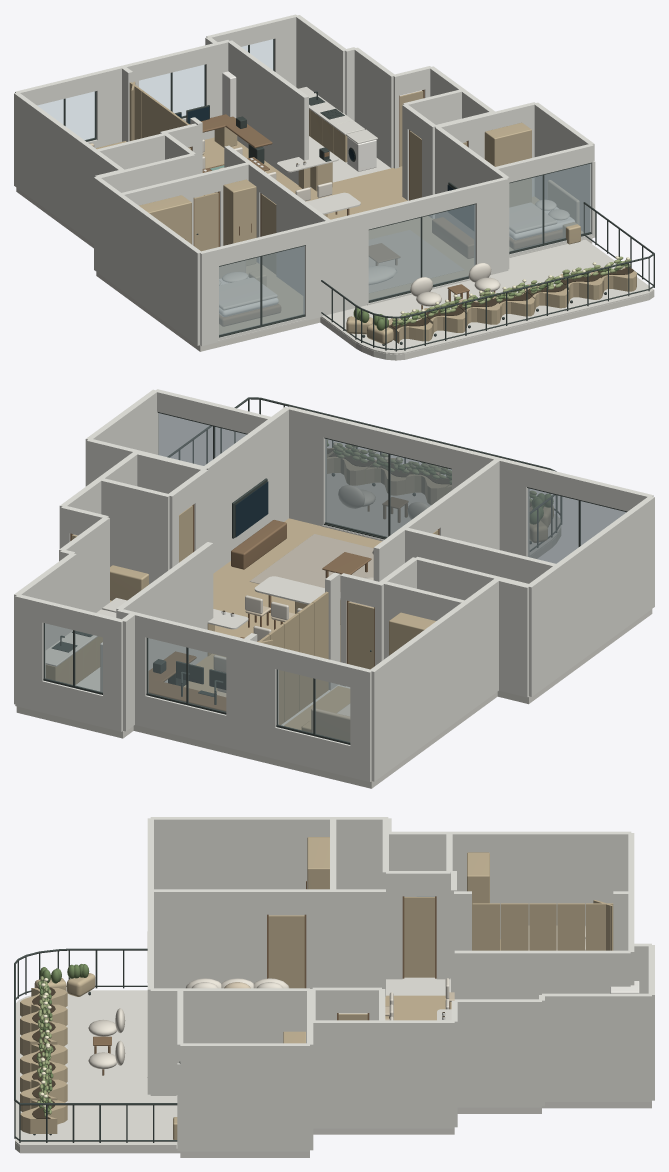
File: home-21101.glb
3 views of the same model, one above another, from view 1: azimuth 30°, elevation 25°; view 2: azimuth 150°, elevation 25°; view 3: azimuth 270°, elevation 25° (orthographic). The views are drawn at different scales.
Visible parts, largest first — view 1: Wall_008, Wall_006, Floor_TerraceFloor, LivingTerrace_glass, Wall_019, MasterSouth_glass, GuestSESouth_glass, Floor_Living, Foundation, Wall_042, Wall_016, Wall_018 (+65 smaller); view 2: Wall_006, Wall_008, LivingTerrace_glass, Wall_038, Wall_004, Wall_034, Wall_019, Floor_Living, Foundation, MasterSouth_glass, StudyNorth_glass, Wall_033 (+62 smaller); view 3: Wall_013, Wall_008, Wall_011, Wall_006, Floor_TerraceFloor, Wall_018, Wall_033, Wall_038, Wall_016, Wall_019, Foundation, Wall_029 (+30 smaller).
Boxes of the visible parts, left/top/right/bottom form: Wall_008: left=94, top=176, right=201, bottom=345; Wall_006: left=14, top=93, right=124, bottom=243; Floor_TerraceFloor: left=321, top=239, right=654, bottom=354; LivingTerrace_glass: left=368, top=204, right=475, bottom=300; Wall_019: left=227, top=40, right=308, bottom=184; MasterSouth_glass: left=219, top=246, right=304, bottom=334; GuestSESouth_glass: left=509, top=164, right=590, bottom=251; Floor_Living: left=293, top=166, right=473, bottom=299; Foundation: left=16, top=187, right=654, bottom=360; Wall_042: left=328, top=211, right=367, bottom=313; Wall_016: left=353, top=47, right=394, bottom=168; Wall_018: left=296, top=15, right=346, bottom=113; Wall_006: left=369, top=578, right=499, bottom=781; Wall_008: left=529, top=496, right=654, bottom=696; LivingTerrace_glass: left=325, top=438, right=451, bottom=537; Wall_038: left=203, top=407, right=290, bottom=573; Wall_004: left=226, top=635, right=278, bottom=758; Wall_034: left=99, top=478, right=170, bottom=584; Wall_019: left=116, top=542, right=213, bottom=682; Floor_Living: left=110, top=518, right=381, bottom=661; Foundation: left=16, top=530, right=652, bottom=788; MasterSouth_glass: left=528, top=488, right=626, bottom=563; StudyNorth_glass: left=148, top=638, right=225, bottom=711; Wall_033: left=435, top=458, right=500, bottom=549; Wall_013: left=310, top=1020, right=454, bottom=1128; Wall_008: left=150, top=817, right=388, bottom=915; Wall_011: left=180, top=1043, right=309, bottom=1151; Wall_006: left=388, top=831, right=631, bottom=939; Floor_TerraceFloor: left=15, top=990, right=176, bottom=1146; Wall_018: left=542, top=993, right=651, bottom=1101; Wall_033: left=154, top=889, right=266, bottom=988; Wall_038: left=150, top=988, right=309, bottom=1095; Wall_016: left=454, top=999, right=541, bottom=1107; Wall_019: left=454, top=950, right=630, bottom=999; Foundation: left=15, top=977, right=651, bottom=1157; Wall_029: left=333, top=889, right=385, bottom=996.
Size of the model in its own units: 13 by 3 by 15.39.
